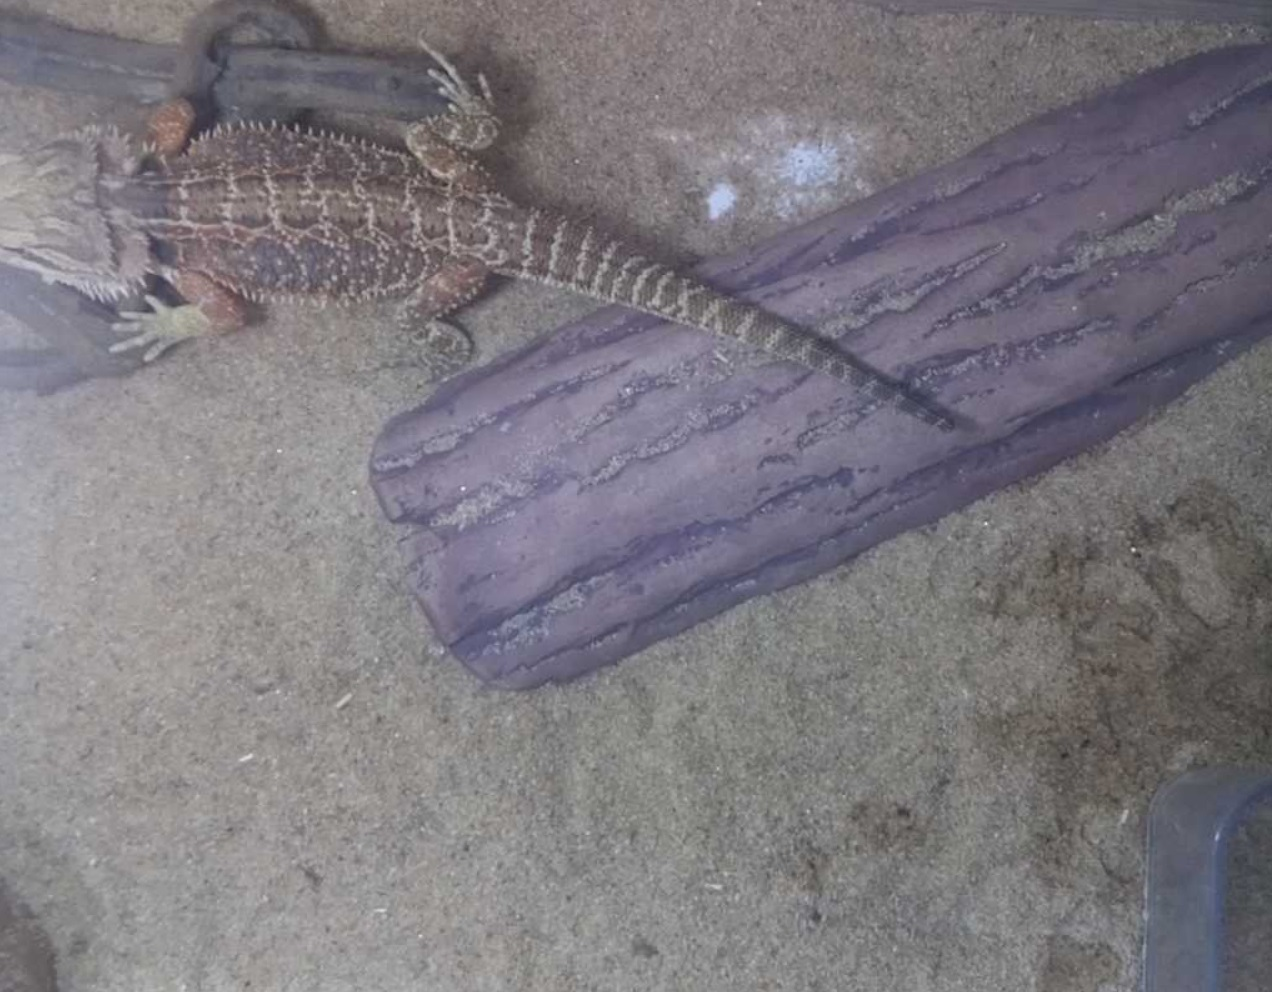bearded: (5, 41, 965, 433)
